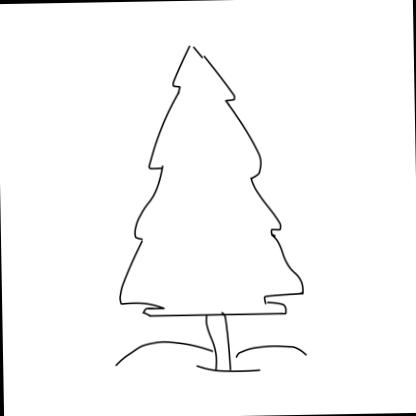root_none: (210, 362, 238, 379)
trunk_straight: (203, 318, 232, 360)
